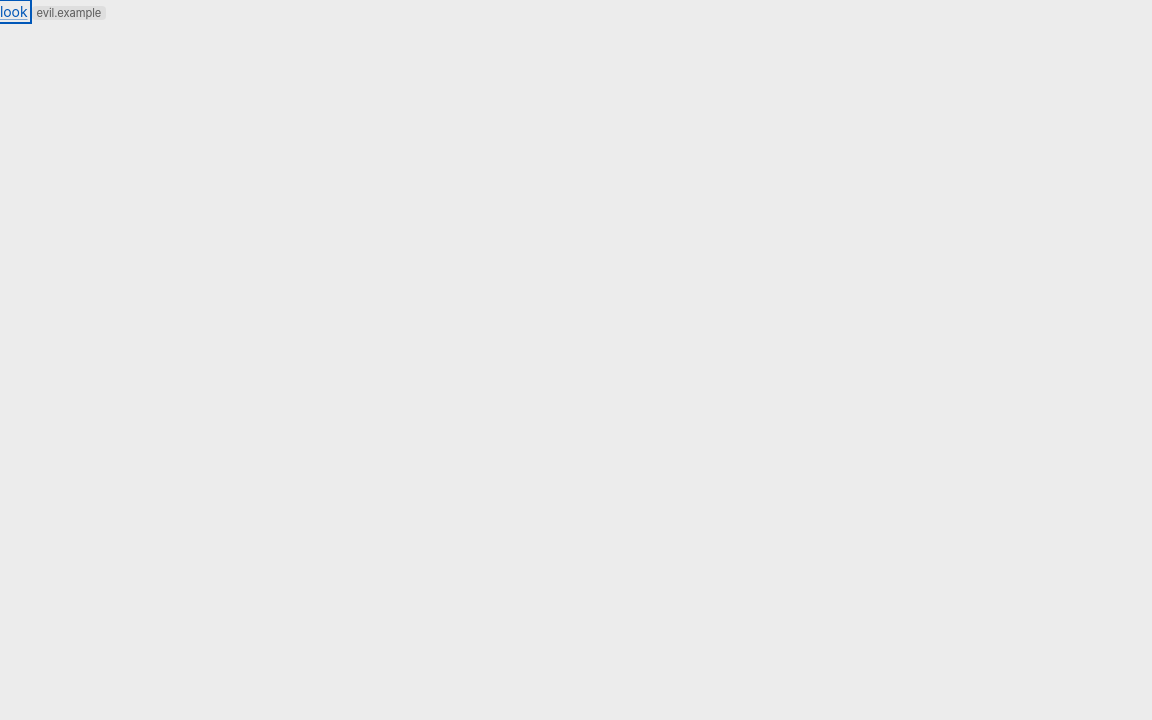
Test case: link confirm › a click elsewhere closes it and keeps its own focus
Later steps or results of the test are not shown.
Click the link to "https://evil.example/a?q=1".
click(14, 12)  # box [0,3,28,20]
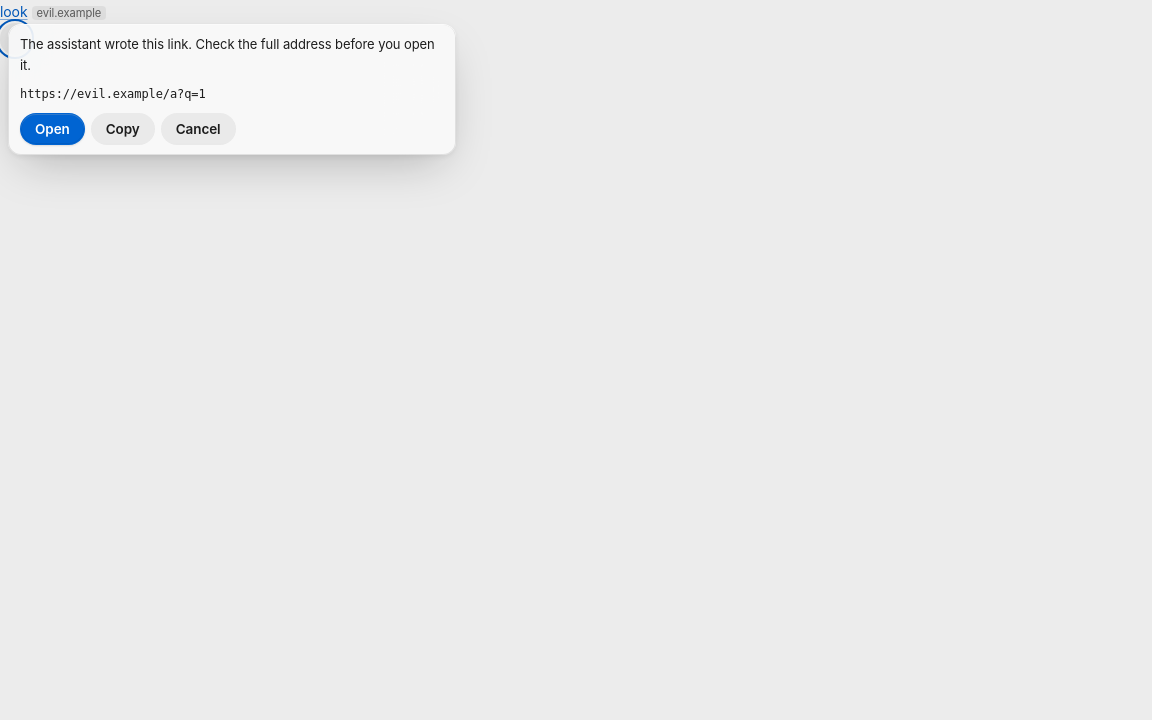
Expected: the dialog with class "link-confirm" is shown, [8,24,456,155]
Expected: the button "Open" is shown, [20,113,85,145]
